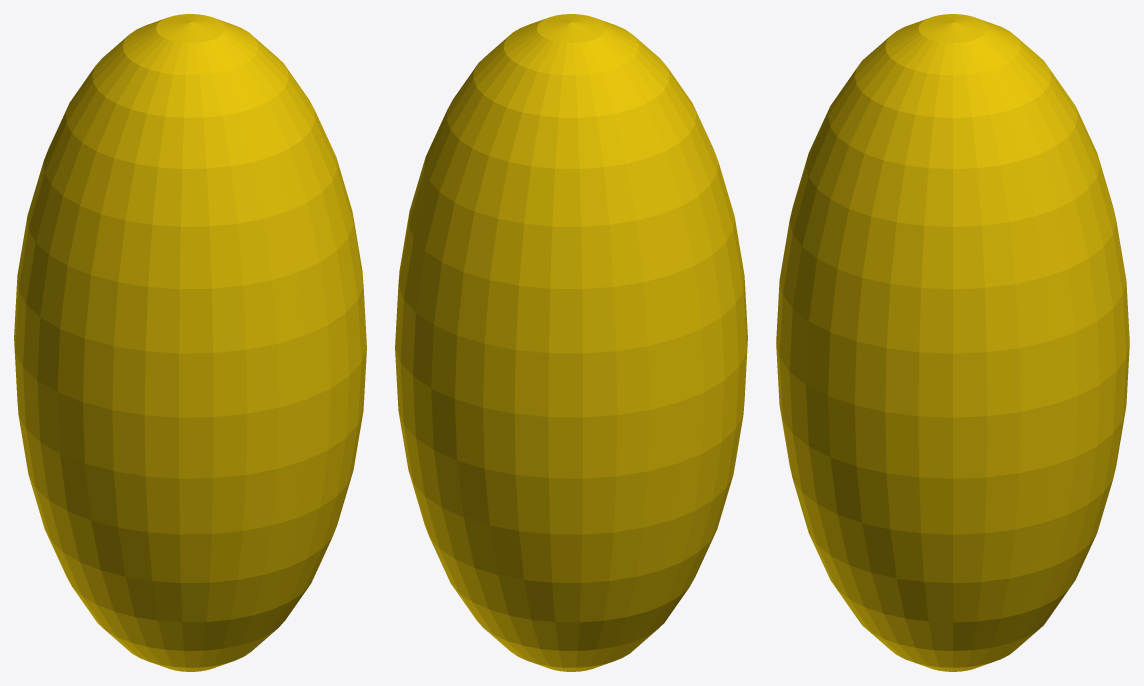
File: Player.fbx
The picture shows the model from 3 angles, left to right: view 1: azimuth 30°, elevation 25°; view 2: azimuth 150°, elevation 25°; view 3: azimuth 270°, elevation 25°; orthographic projection.
Parts seen in each view (by area): view 1: 球; view 2: 球; view 3: 球.
Part boxes in pixels (x1,y1,x2,y2): 球: (14,14,366,671); 球: (395,14,747,671); 球: (776,14,1129,671).
Bounding box in the file's own units: 2 × 4 × 2.
